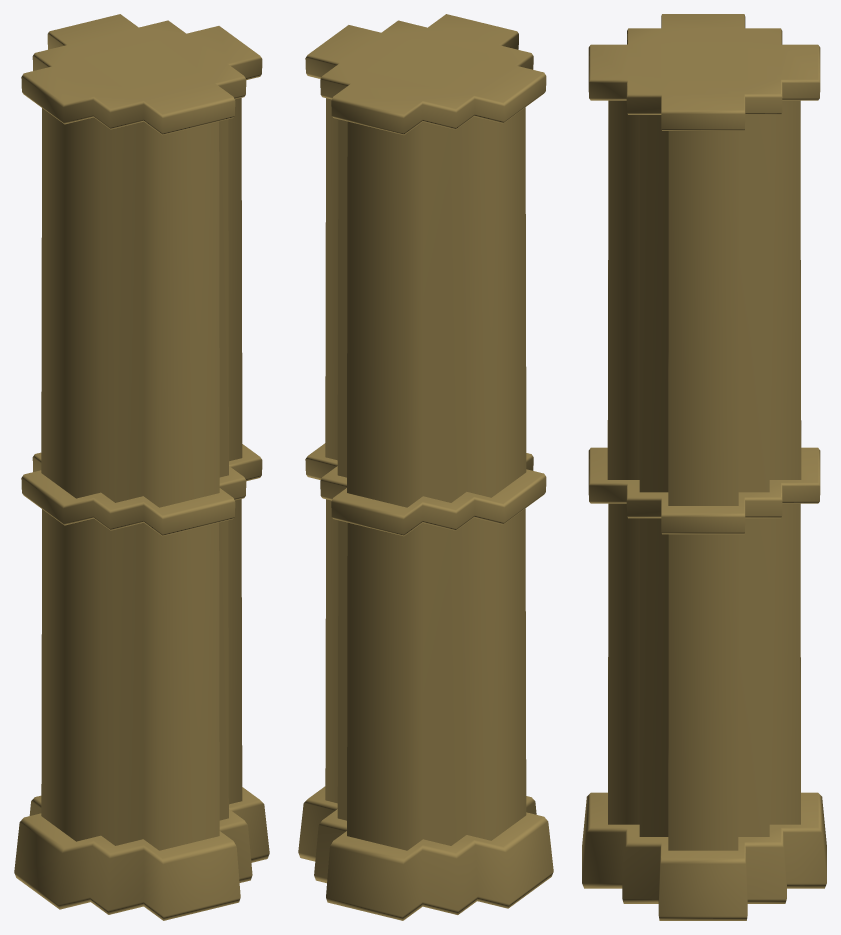
Rendered from Pillar_03_x2_Lod0.fbx.
3 views of the same model, side by side, from view 1: azimuth 30°, elevation 25°; view 2: azimuth 150°, elevation 25°; view 3: azimuth 270°, elevation 25° (orthographic).
Parts seen in each view (by area): view 1: Pillar_03_x2_Lod0; view 2: Pillar_03_x2_Lod0; view 3: Pillar_03_x2_Lod0.
Part boxes in pixels (x1,y1,x2,y2): Pillar_03_x2_Lod0: (14,14,269,920); Pillar_03_x2_Lod0: (298,14,553,920); Pillar_03_x2_Lod0: (582,14,826,920).
Size of the model in its own units: 165 by 601 by 165.
